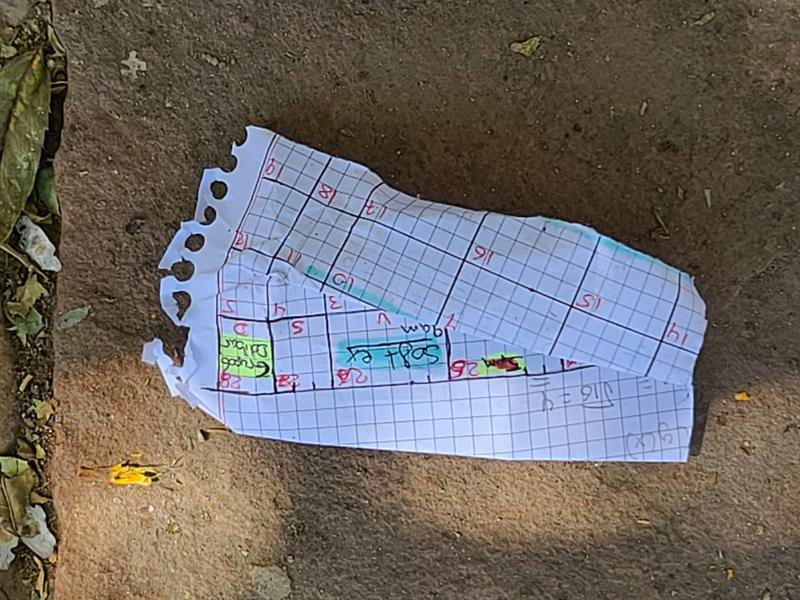papel: (142, 127, 708, 466)
